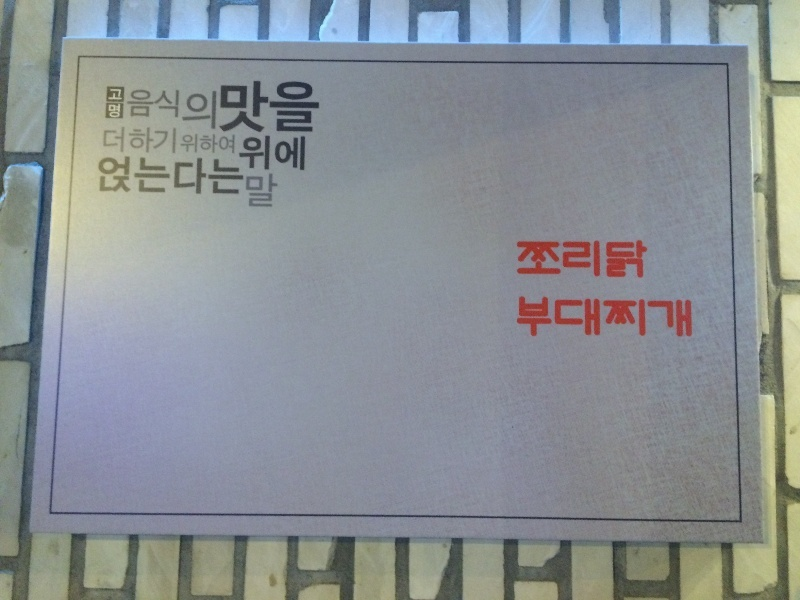text: (305, 80, 321, 133), (225, 80, 240, 133), (241, 80, 256, 133), (257, 80, 272, 133), (273, 80, 288, 133), (289, 80, 304, 133), (529, 296, 544, 338), (545, 296, 560, 338), (561, 296, 576, 338), (577, 296, 592, 338), (593, 296, 608, 338), (609, 296, 624, 338), (625, 296, 640, 338), (641, 296, 656, 338), (657, 296, 672, 338), (673, 296, 688, 338), (529, 240, 544, 279), (545, 240, 560, 279), (561, 240, 576, 279), (577, 240, 592, 279), (593, 240, 608, 279), (609, 240, 624, 279), (625, 240, 640, 279), (113, 157, 128, 195), (129, 157, 144, 195), (145, 157, 160, 195), (161, 157, 176, 195), (177, 157, 192, 195), (193, 157, 208, 195), (209, 157, 224, 195), (225, 157, 240, 195), (193, 92, 208, 129), (241, 135, 256, 171), (257, 135, 272, 171), (273, 135, 288, 171), (289, 135, 304, 171), (257, 173, 272, 209), (98, 157, 112, 195), (516, 240, 528, 279), (517, 296, 528, 338), (161, 127, 177, 155), (129, 90, 144, 118), (145, 90, 160, 118), (161, 90, 176, 118), (113, 127, 128, 155), (129, 127, 144, 155), (145, 127, 160, 155), (246, 173, 256, 209), (183, 92, 192, 129), (193, 134, 208, 154), (209, 134, 224, 154), (209, 92, 217, 129), (113, 89, 123, 118), (641, 240, 648, 279), (104, 127, 112, 155), (181, 134, 192, 154), (220, 80, 224, 133), (225, 134, 235, 154), (273, 173, 278, 209), (689, 296, 693, 338), (241, 157, 244, 195), (109, 89, 112, 118), (177, 90, 180, 118), (239, 135, 240, 171), (305, 135, 306, 171), (127, 90, 128, 118)
